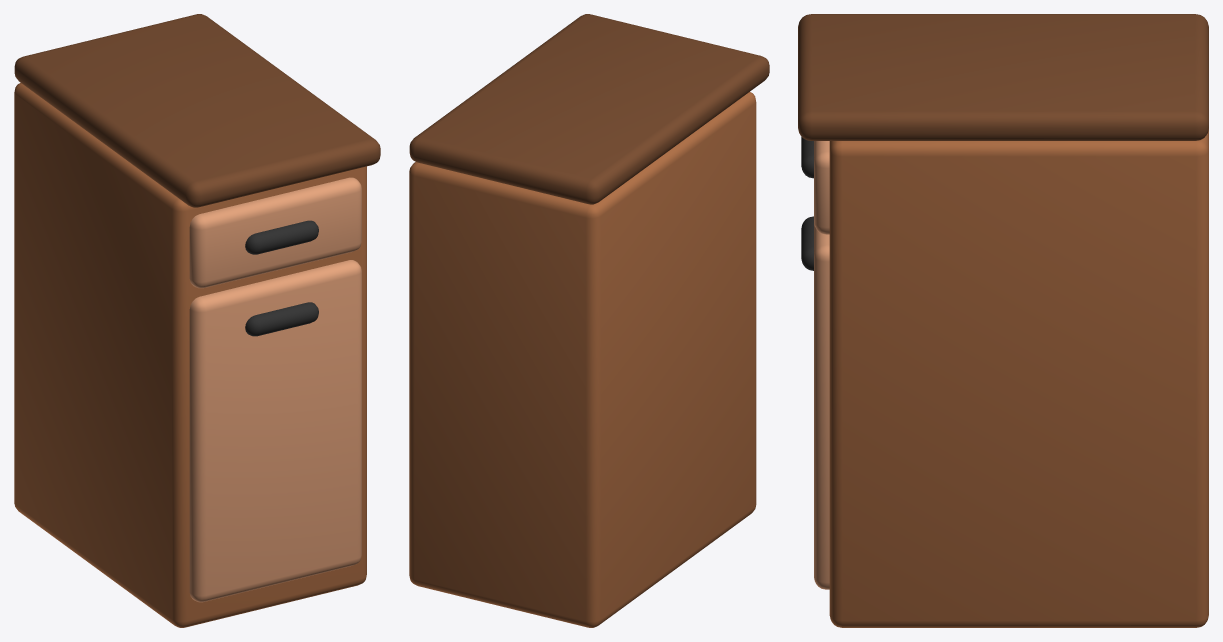
Rendered from tumba_40x60x85_3.glb.
3 views of the same model, side by side, from view 1: azimuth 30°, elevation 25°; view 2: azimuth 150°, elevation 25°; view 3: azimuth 270°, elevation 25° (orthographic). The views are drawn at different scales.
Visible parts, largest first — view 1: Cube.012; view 2: Cube.012; view 3: Cube.012.
Part boxes in pixels (box(x1,y1,x2,y2)): Cube.012: box(14, 14, 380, 627); Cube.012: box(409, 14, 769, 627); Cube.012: box(798, 14, 1208, 627).
Bounding box in the file's own units: 0.4 × 0.9 × 0.65.
